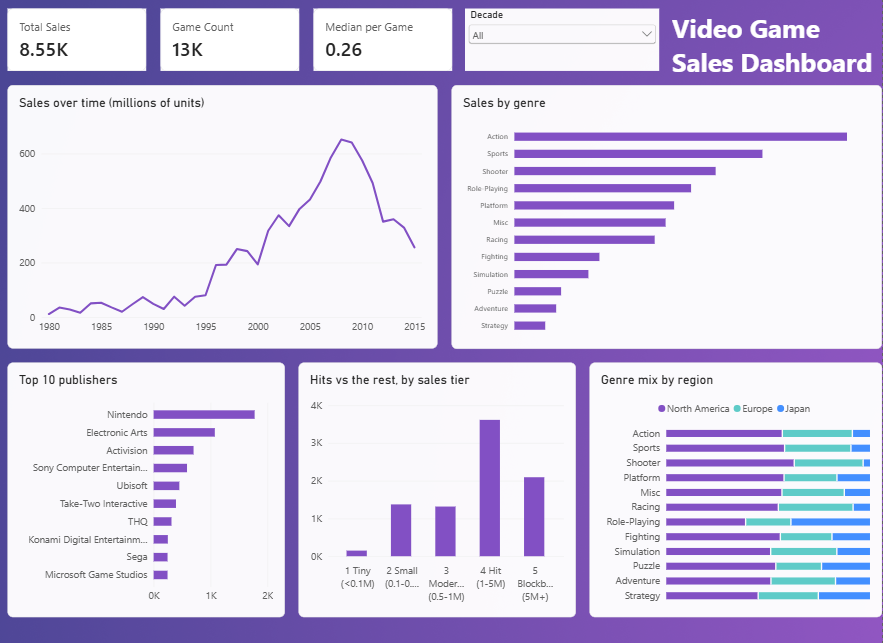

The dashboard page shown, as its layout file describes it:
{"tool":"powerbi","page":{"name":"Page 1","canvas":[1280,940],"ordinal":0},"visuals":[{"type":"cardVisual","fields":{"Data":["vgsales.Total Sales"]},"box":[20,20,200,90],"z":0},{"type":"cardVisual","fields":{"Data":["vgsales.Game Count"]},"box":[240,20,200,90],"z":1000},{"type":"cardVisual","fields":{"Data":["vgsales.Median per Game"]},"box":[460,20,200,90],"z":2000},{"type":"lineChart","title":"Sales over time (millions of units)","fields":{"Category":["vgsales.Year"],"Y":["vgsales.Total Sales"]},"box":[20,130,620,380],"z":3000},{"type":"clusteredBarChart","title":"Sales by genre","fields":{"Category":["vgsales.Genre"],"Y":["vgsales.Total Sales"]},"box":[659.6,129.8,620.7,380.6],"z":4000},{"type":"slicer","fields":{"Values":["vgsales.Decade"]},"box":[680,20,280,90],"z":5000},{"type":"clusteredColumnChart","title":"Hits vs the rest, by sales tier","fields":{"Category":["vgsales.Sales Tier"],"Y":["vgsales.Total Sales"]},"box":[439,529.8,400.1,367.6],"z":6000},{"type":"clusteredBarChart","title":"Top 10 publishers","fields":{"Category":["vgsales.Publisher"],"Y":["vgsales.Total Sales"]},"box":[19.5,529.8,400.1,367.6],"z":7000},{"type":"textbox","box":[977.3,20.7,302.3,138.7],"z":8000},{"type":"hundredPercentStackedBarChart","title":"Genre mix by region","fields":{"Category":["vgsales.Genre"],"Y":["Sum(vgsales.NA_Sales)","Sum(vgsales.EU_Sales)","Sum(vgsales.JP_Sales)"]},"box":[858.6,529.8,421.7,367.6],"z":9000}]}

Visuals, with their boxes in screenshot pixels (x1, y1, x2, y2), scaled from the page's 1280x940 canvas onto the 883x643 screenshot:
cardVisual - vgsales.Total Sales: l=14, t=14, r=152, b=75
cardVisual - vgsales.Game Count: l=166, t=14, r=304, b=75
cardVisual - vgsales.Median per Game: l=317, t=14, r=455, b=75
"Sales over time (millions of units)" lineChart: l=14, t=89, r=442, b=349
"Sales by genre" clusteredBarChart: l=455, t=89, r=882, b=349
slicer - vgsales.Decade: l=469, t=14, r=662, b=75
"Hits vs the rest, by sales tier" clusteredColumnChart: l=303, t=362, r=579, b=614
"Top 10 publishers" clusteredBarChart: l=13, t=362, r=289, b=614
textbox: l=674, t=14, r=882, b=109
"Genre mix by region" hundredPercentStackedBarChart: l=592, t=362, r=882, b=614
